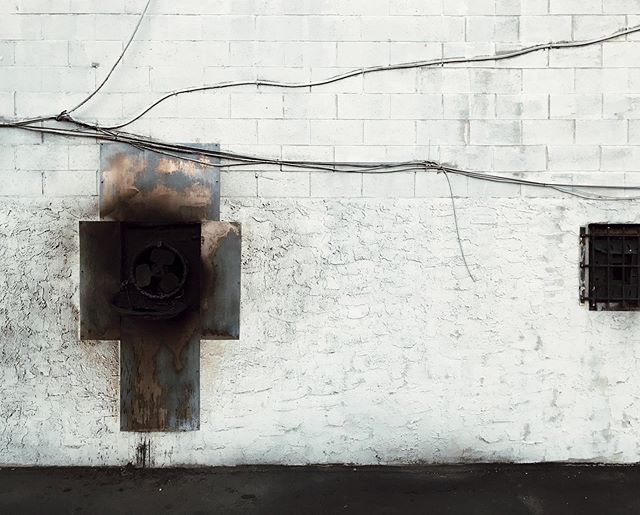fan: (129, 237, 198, 309)
wall: (1, 1, 631, 459)
